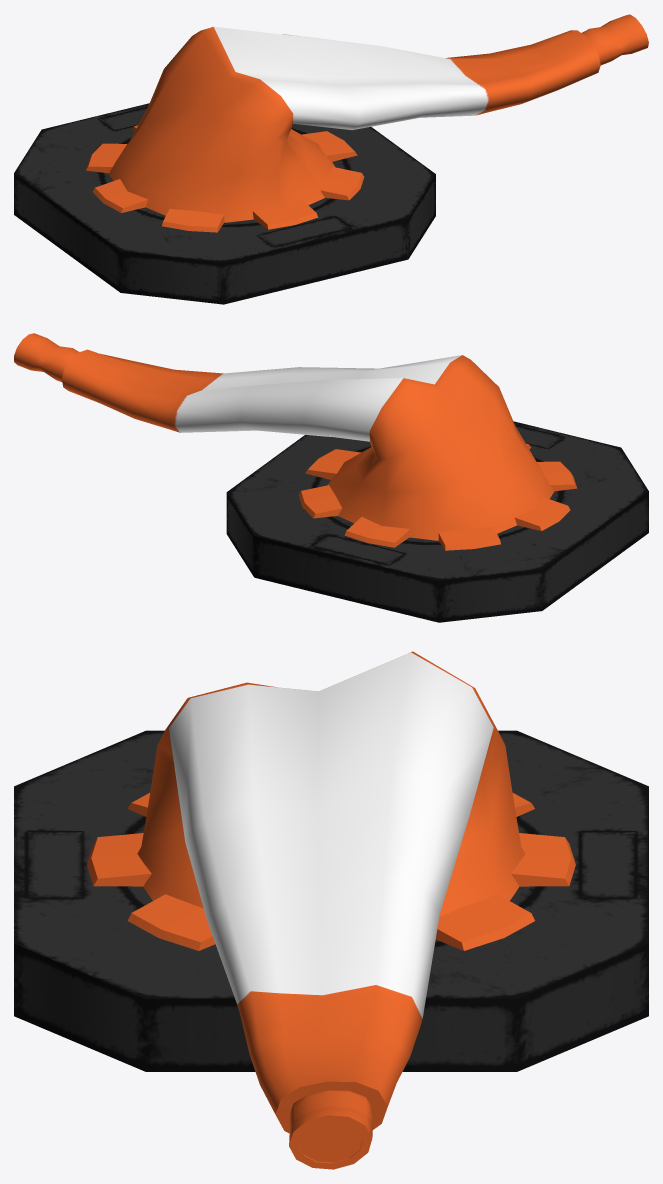
The model's file is Traffic Cone Broken.FBX.
3 views of the same model, one above another, from view 1: azimuth 30°, elevation 25°; view 2: azimuth 150°, elevation 25°; view 3: azimuth 270°, elevation 25° (orthographic). The views are drawn at different scales.
Visible parts, largest first — view 1: Traffic Cone Broken; view 2: Traffic Cone Broken; view 3: Traffic Cone Broken.
Boxes of the visible parts, bbox=[...] form: Traffic Cone Broken: bbox=[14, 14, 648, 304]; Traffic Cone Broken: bbox=[14, 333, 648, 622]; Traffic Cone Broken: bbox=[14, 651, 648, 1169].
Bounding box in the file's own units: 85.97 × 24.33 × 47.46.
Materials: 1 (1 with a texture image).
